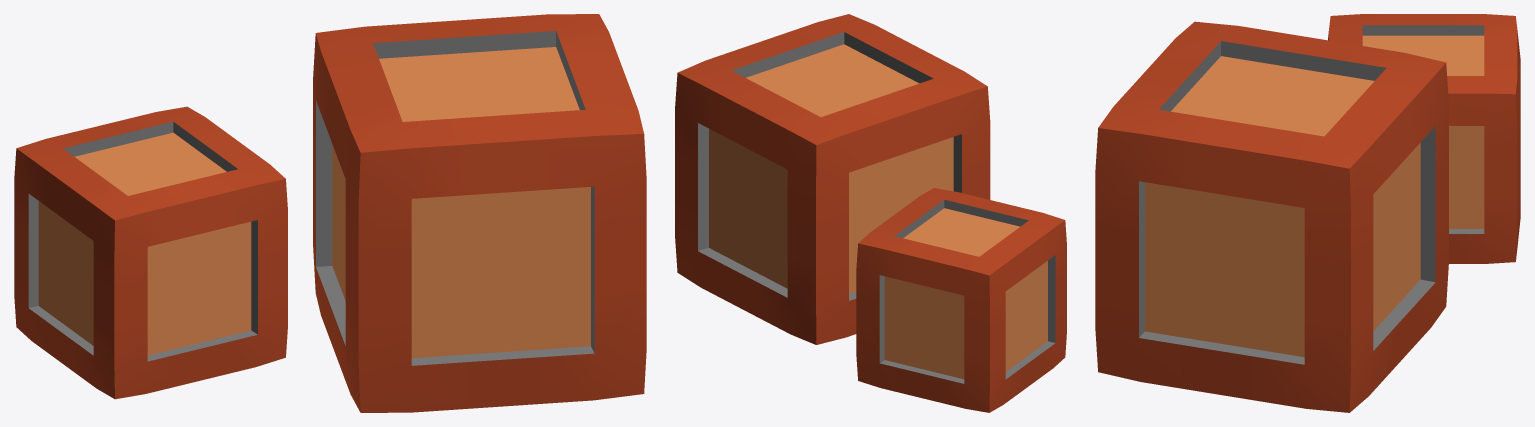
Rendered from Boxes.fbx.
3 views of the same model, side by side, from view 1: azimuth 30°, elevation 25°; view 2: azimuth 150°, elevation 25°; view 3: azimuth 270°, elevation 25° (orthographic). The views are drawn at different scales.
Visible parts, largest first — view 1: BigBox, SmallBox; view 2: BigBox, SmallBox; view 3: BigBox, SmallBox.
Boxes of the visible parts, bbox=[...] form: BigBox: bbox=[313, 14, 646, 412]; SmallBox: bbox=[14, 106, 287, 399]; BigBox: bbox=[675, 14, 990, 344]; SmallBox: bbox=[856, 188, 1066, 412]; BigBox: bbox=[1095, 21, 1448, 412]; SmallBox: bbox=[1328, 14, 1520, 263].
Size of the model in its own units: 126 by 65.89 by 98.86.
